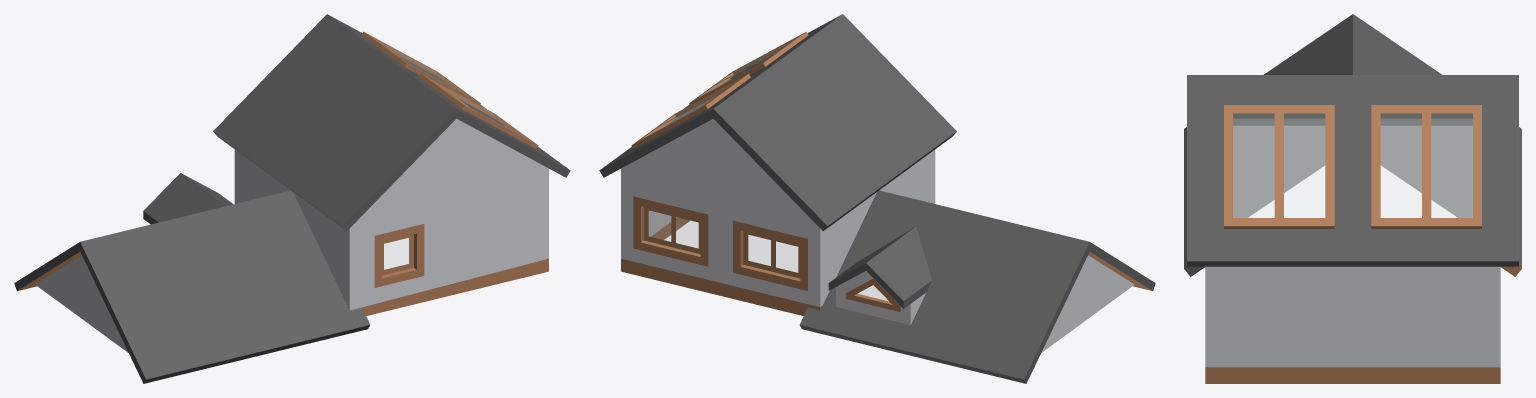
Rendered from Tile_House_1_Roof.fbx.
3 views of the same model, side by side, from view 1: azimuth 30°, elevation 25°; view 2: azimuth 150°, elevation 25°; view 3: azimuth 270°, elevation 25° (orthographic). The views are drawn at different scales.
Parts seen in each view (by area): view 1: house_type03.001; view 2: house_type03.001; view 3: house_type03.001.
Boxes of the visible parts, box(x1,y1,x2,y2) form: house_type03.001: box(14, 14, 570, 383); house_type03.001: box(599, 14, 1155, 383); house_type03.001: box(1184, 14, 1521, 383).
Size of the model in its own units: 171 by 76.75 by 91.6.
